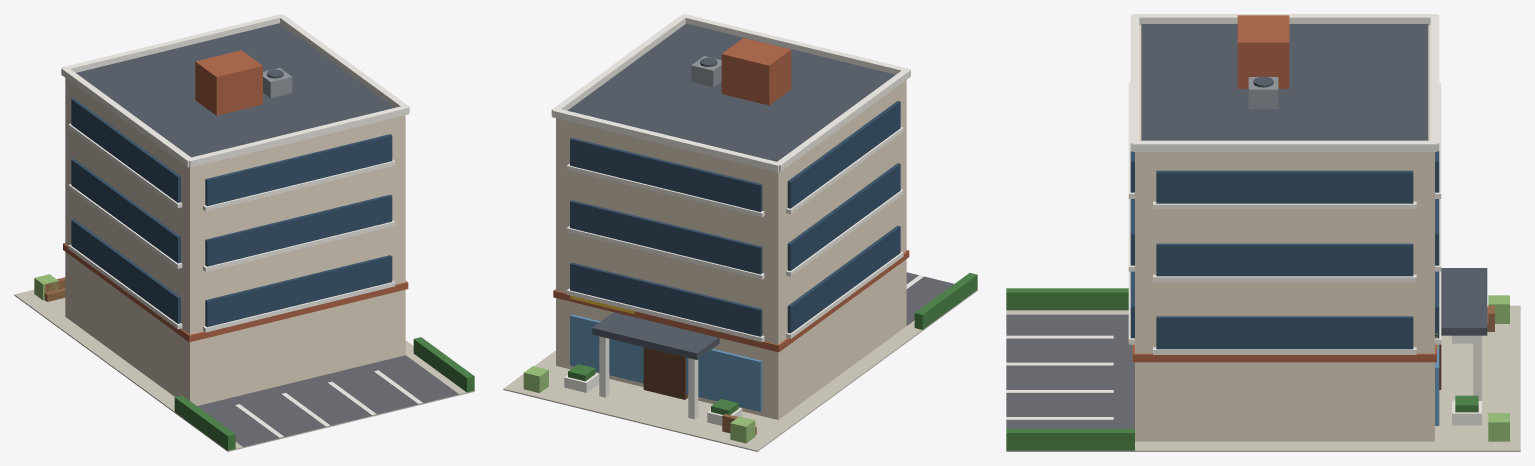
3 views of the same model, side by side, from view 1: azimuth 30°, elevation 25°; view 2: azimuth 150°, elevation 25°; view 3: azimuth 270°, elevation 25° (orthographic). The views are drawn at different scales.
Visible parts, largest first — view 1: block, window_band (×6), roof, car_park, parapet (×4), sill (×6), ground, plant_room, hedge (×2), string_course, ac_unit_body; view 2: block, window_band (×6), roof, ground, parapet (×4), storefront, sill (×6), plant_room, canopy, string_course, door, hedge (+4 smaller); view 3: block, roof, window_band (×3), car_park, ground, parapet (×4), hedge (×2), sill (×3), plant_room, canopy, string_course, tree_spot (×2) (+3 smaller).
Boxes of the visible parts, x1,y1,x2,y2 form: block: [65, 78, 405, 405]; window_band (×6): [71, 98, 392, 327]; roof: [76, 23, 394, 157]; car_park: [197, 355, 458, 446]; parapet (×4): [61, 14, 409, 167]; sill (×6): [68, 123, 395, 332]; ground: [14, 289, 474, 451]; plant_room: [195, 50, 262, 115]; hedge (×2): [174, 337, 474, 450]; string_course: [63, 243, 408, 342]; ac_unit_body: [263, 68, 292, 97]; block: [556, 80, 906, 419]; window_band (×6): [570, 101, 900, 336]; roof: [567, 23, 895, 161]; ground: [503, 290, 977, 451]; parapet (×4): [551, 14, 910, 172]; storefront: [570, 314, 762, 411]; sill (×6): [566, 127, 903, 342]; plant_room: [721, 38, 791, 105]; canopy: [592, 312, 719, 359]; string_course: [553, 250, 909, 352]; door: [643, 347, 687, 399]; hedge: [914, 273, 977, 329]; block: [1135, 25, 1434, 441]; roof: [1141, 24, 1428, 140]; window_band (×3): [1156, 170, 1413, 349]; car_park: [1006, 314, 1134, 428]; ground: [1006, 305, 1520, 451]; parapet (×4): [1130, 14, 1439, 151]; hedge (×2): [1006, 288, 1134, 450]; sill (×3): [1153, 201, 1416, 354]; plant_room: [1237, 15, 1289, 88]; canopy: [1441, 268, 1487, 335]; string_course: [1132, 344, 1436, 362]; tree_spot (×2): [1488, 295, 1509, 441].
Bounding box in the file's own units: 16 × 17.59 × 24.
